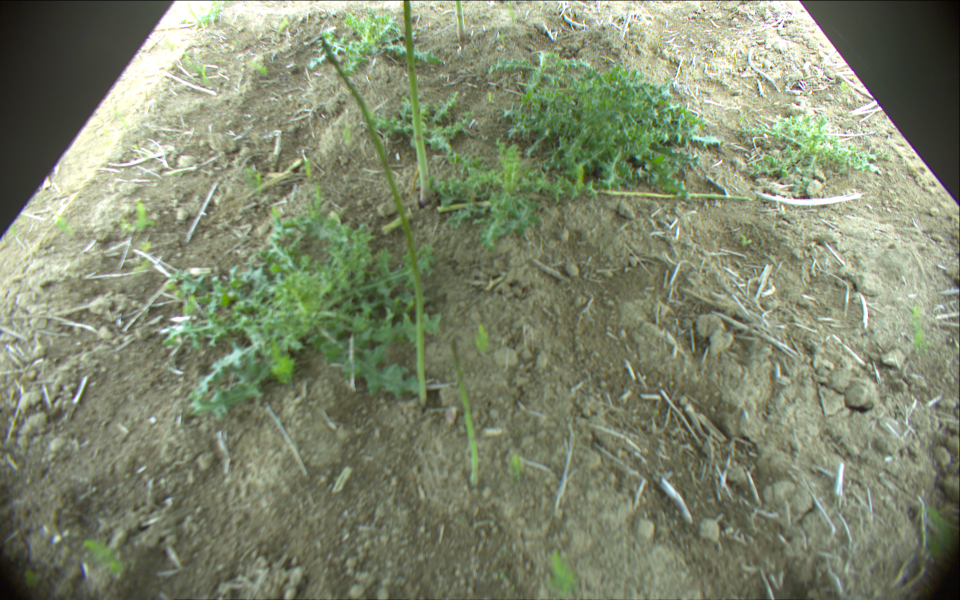aspa: (319, 35, 428, 406), (402, 1, 431, 204), (449, 335, 481, 487), (591, 190, 751, 201), (436, 197, 503, 215), (454, 1, 468, 41)
